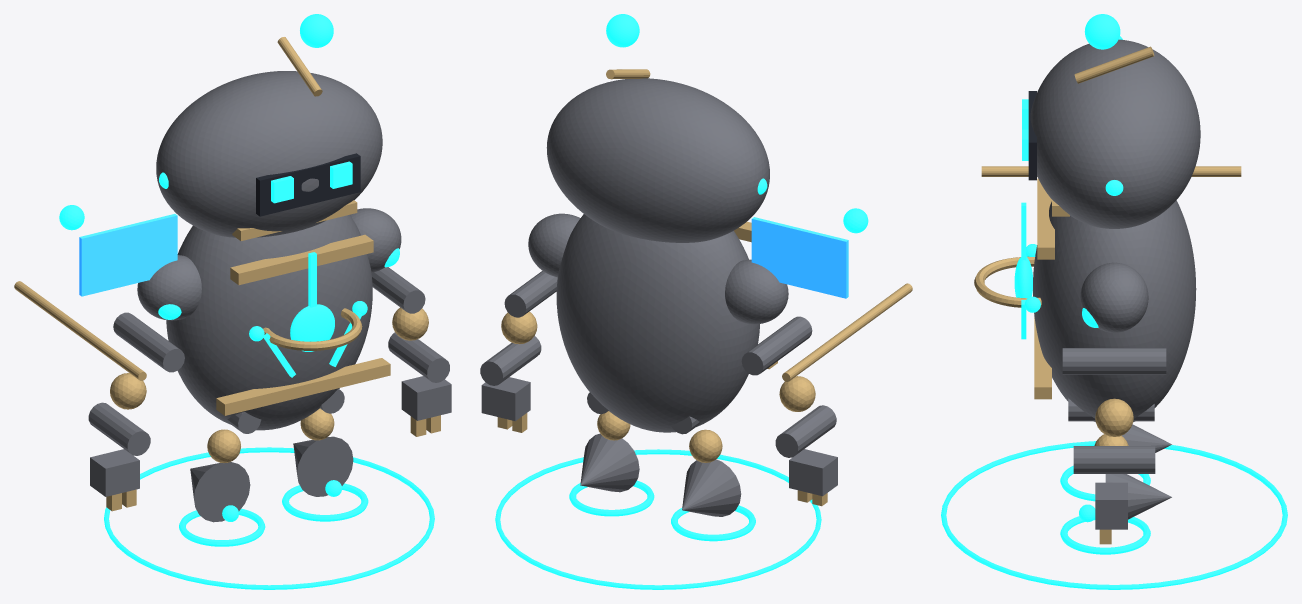
File: patch_robot.glb
3 views of the same model, side by side, from view 1: azimuth 30°, elevation 25°; view 2: azimuth 150°, elevation 25°; view 3: azimuth 270°, elevation 25° (orthographic). The views are drawn at different scales.
Parts seen in each view (by area): view 1: helmet_head_stone, round_torso_stone, small_blue_flag_banner, cyan_base_scale_ring, front_bronze_belt, black_face_visor, -1_shoulder_stone, -1_hover_foot, 1_hover_foot, upper_bronze_band, -1_upper_arm_stone, -1_blocky_hand (+17 smaller); view 2: round_torso_stone, helmet_head_stone, small_blue_flag_banner, cyan_base_scale_ring, -1_shoulder_stone, -1_hover_foot, 1_hover_foot, 1_shoulder_stone, -1_upper_arm_stone, -1_blocky_hand, 1_blocky_hand, -1_forearm_stone (+10 smaller); view 3: helmet_head_stone, round_torso_stone, cyan_base_scale_ring, 1_shoulder_stone, 1_upper_arm_stone, 1_forearm_stone, 1_blocky_hand, 1_hover_foot, 1_elbow_bronze, 1_hover_ring_glow, bronze_chest_ring, upper_bronze_band (+9 smaller).
Boxes of the visible parts, x1=… form: helmet_head_stone: x1=156, y1=71, x2=382, y2=237; round_torso_stone: x1=166, y1=214, x2=372, y2=430; small_blue_flag_banner: x1=79, y1=214, x2=177, y2=296; cyan_base_scale_ring: x1=104, y1=447, x2=434, y2=589; front_bronze_belt: x1=216, y1=358, x2=390, y2=415; black_face_visor: x1=256, y1=153, x2=360, y2=216; -1_shoulder_stone: x1=137, y1=255, x2=201, y2=320; -1_hover_foot: x1=190, y1=462, x2=250, y2=522; 1_hover_foot: x1=293, y1=436, x2=353, y2=496; upper_bronze_band: x1=230, y1=234, x2=373, y2=285; -1_upper_arm_stone: x1=113, y1=312, x2=184, y2=372; -1_blocky_hand: x1=90, y1=449, x2=139, y2=496; round_torso_stone: x1=556, y1=214, x2=759, y2=432; helmet_head_stone: x1=546, y1=78, x2=769, y2=242; small_blue_flag_banner: x1=751, y1=217, x2=848, y2=298; cyan_base_scale_ring: x1=495, y1=449, x2=821, y2=589; -1_shoulder_stone: x1=725, y1=259, x2=788, y2=324; -1_hover_foot: x1=682, y1=459, x2=741, y2=516; 1_hover_foot: x1=580, y1=433, x2=639, y2=492; 1_shoulder_stone: x1=528, y1=213, x2=580, y2=277; -1_upper_arm_stone: x1=741, y1=316, x2=812, y2=375; -1_blocky_hand: x1=789, y1=449, x2=837, y2=496; 1_blocky_hand: x1=481, y1=377, x2=530, y2=421; -1_forearm_stone: x1=775, y1=405, x2=836, y2=457; helmet_head_stone: x1=1030, y1=39, x2=1200, y2=228; round_torso_stone: x1=1033, y1=200, x2=1196, y2=422; cyan_base_scale_ring: x1=941, y1=441, x2=1287, y2=589; 1_shoulder_stone: x1=1080, y1=262, x2=1148, y2=332; 1_upper_arm_stone: x1=1062, y1=348, x2=1166, y2=374; 1_forearm_stone: x1=1073, y1=446, x2=1155, y2=473; 1_blocky_hand: x1=1095, y1=482, x2=1127, y2=529; 1_hover_foot: x1=1105, y1=474, x2=1171, y2=519; 1_elbow_bronze: x1=1095, y1=398, x2=1133, y2=436; 1_hover_ring_glow: x1=1060, y1=516, x2=1150, y2=554; bronze_chest_ring: x1=974, y1=256, x2=1041, y2=307; upper_bronze_band: x1=1037, y1=178, x2=1054, y2=259.
Bounding box in the file's own units: 3.12 × 3.89 × 2.34.
